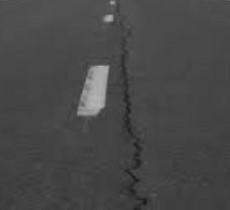crack: (114, 2, 154, 210)
